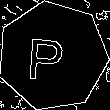P_N: (32, 29, 74, 82)
